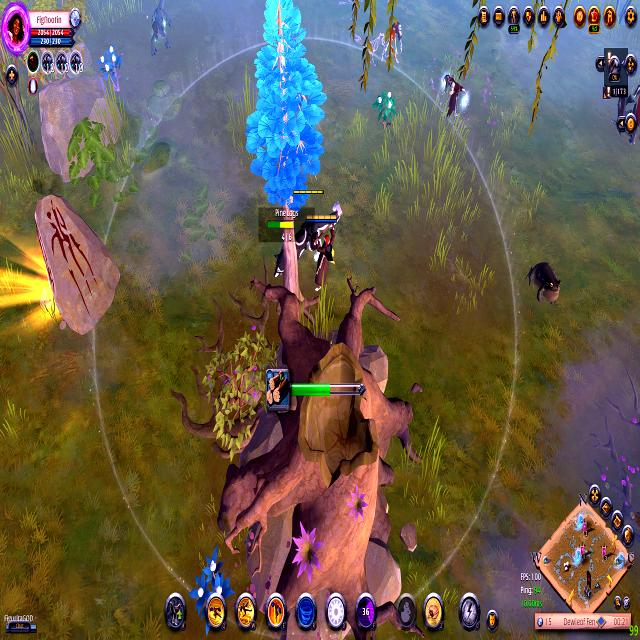hide: (187, 543, 237, 636), (373, 88, 399, 139)
ore: (524, 253, 565, 311), (439, 64, 470, 126), (149, 0, 179, 63), (617, 73, 640, 155), (382, 19, 404, 70)
red: (303, 207, 345, 295), (2, 609, 39, 640)
wisp caged: (245, 0, 327, 318), (99, 41, 124, 96)
